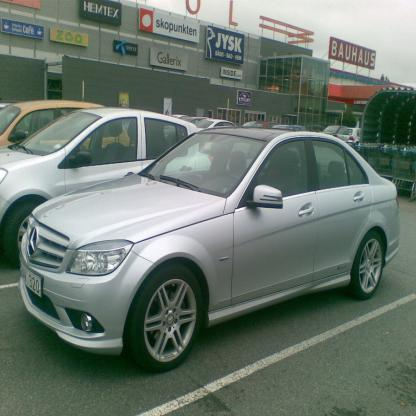Car: (0, 88, 402, 372)
